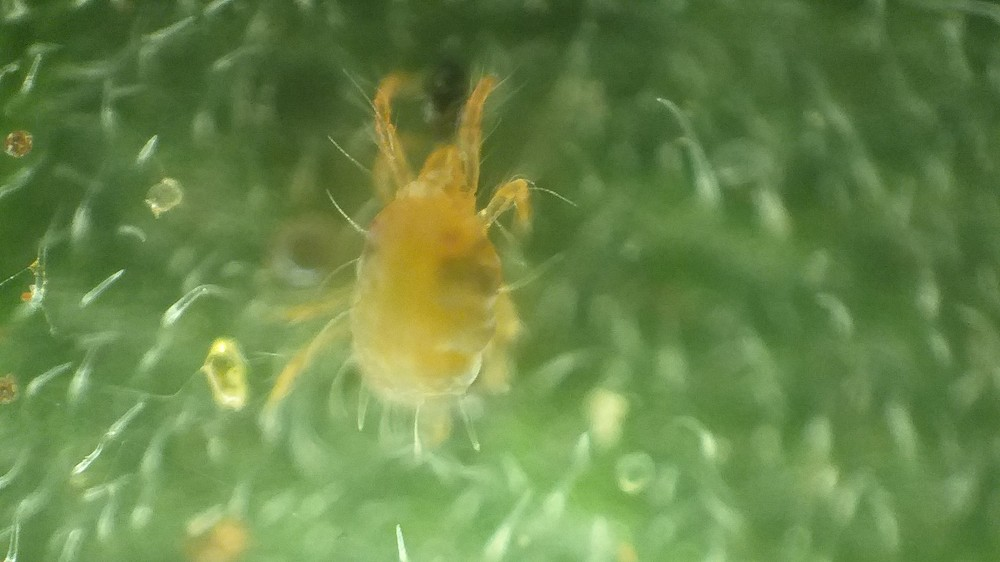Aracnido Rojo: (270, 70, 575, 476)
